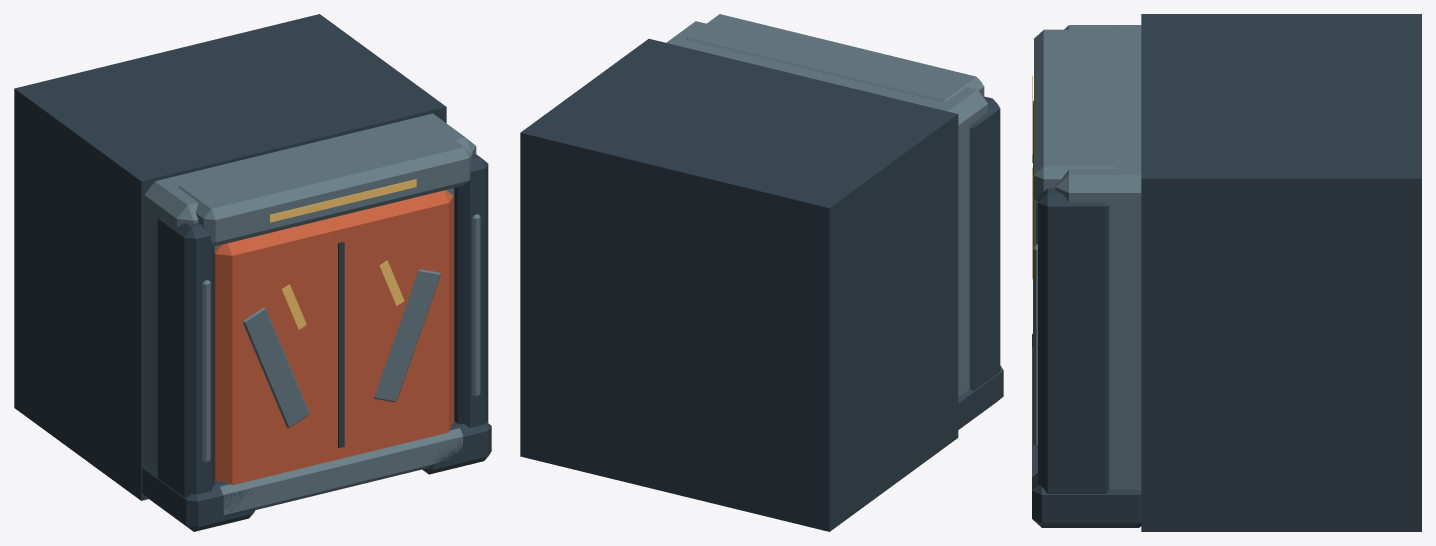
File: armored-shutter.glb
3 views of the same model, side by side, from view 1: azimuth 30°, elevation 25°; view 2: azimuth 150°, elevation 25°; view 3: azimuth 270°, elevation 25° (orthographic). The views are drawn at different scales.
Parts seen in each view (by area): view 1: solid full-envelope blocker, continuous recessed door face, stepped exterior shell, crown warning strip; view 2: solid full-envelope blocker, stepped exterior shell; view 3: solid full-envelope blocker, stepped exterior shell.
Boxes of the visible parts, x1,y1,x2,y2 form: solid full-envelope blocker: (14,14,491,531); continuous recessed door face: (214,190,453,485); stepped exterior shell: (144,113,480,514); crown warning strip: (269,179,416,329); solid full-envelope blocker: (520,38,1003,531); stepped exterior shell: (666,14,987,396); solid full-envelope blocker: (1032,14,1421,531); stepped exterior shell: (1032,25,1141,490).
Bounding box in the file's own units: 1 × 1 × 1.
